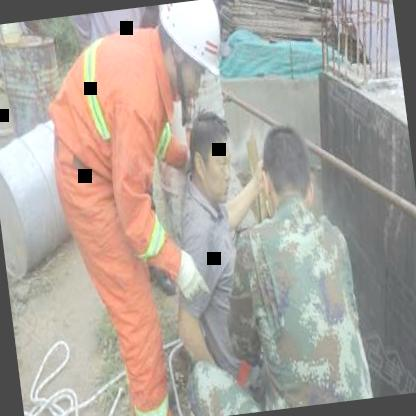head: (246, 122, 320, 222), (177, 110, 243, 216)
helmet: (149, 0, 234, 110)
